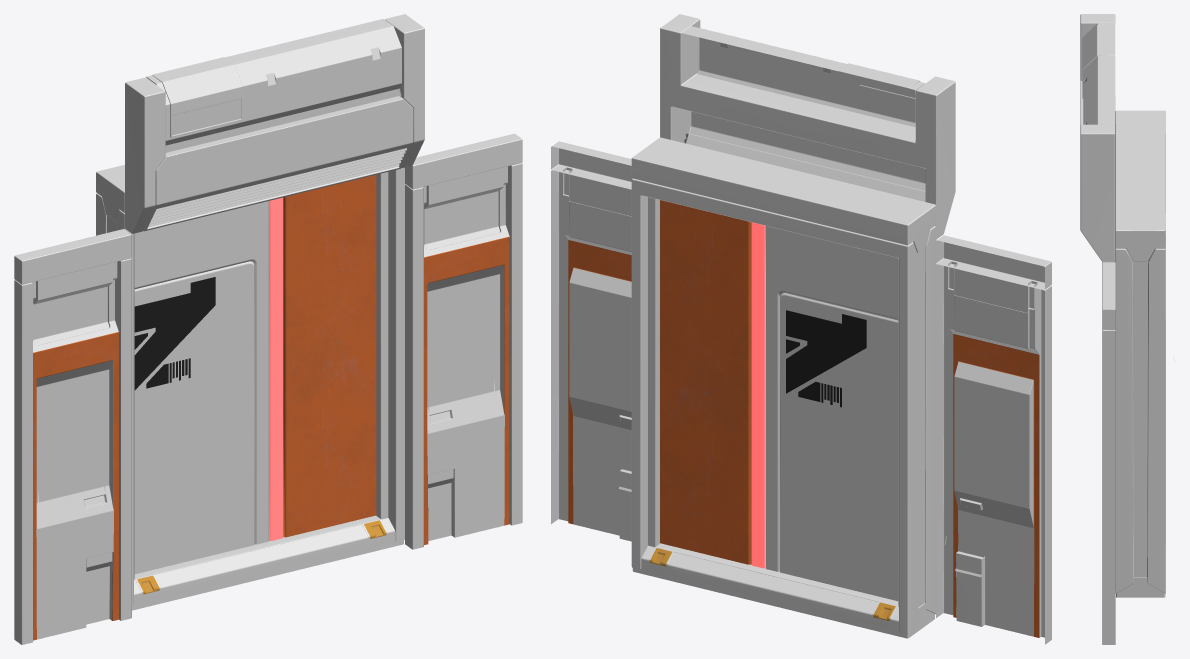
Rendered from small_door.fbx.
3 views of the same model, side by side, from view 1: azimuth 30°, elevation 25°; view 2: azimuth 150°, elevation 25°; view 3: azimuth 270°, elevation 25° (orthographic). The views are drawn at different scales.
Visible parts, largest first — view 1: Plane1754, Cube.013, Cube.011, Cube.010, Cube.001, Plane1754.001; view 2: Plane1754, Cube.001, Cube.011, Cube.013, Cube.010, Plane1754.002; view 3: Cube.001, Cube.013, Cube.010.
Boxes of the visible parts, box(x1,y1,x2,y2) form: Plane1754: box(134, 175, 376, 574); Cube.013: box(125, 14, 424, 233); Cube.011: box(14, 229, 131, 644); Cube.010: box(405, 133, 522, 549); Cube.001: box(96, 165, 405, 610); Plane1754.001: box(269, 197, 283, 540); Plane1754: box(660, 200, 898, 601); Cube.001: box(631, 137, 936, 638); Cube.011: box(936, 235, 1051, 644); Cube.013: box(660, 14, 955, 239); Cube.010: box(551, 141, 632, 541); Plane1754.002: box(751, 222, 765, 568); Cube.001: box(1115, 110, 1165, 597); Cube.013: box(1080, 14, 1115, 261); Cube.010: box(1102, 262, 1115, 644).
Size of the model in its own units: 499 by 506 by 93.98.
